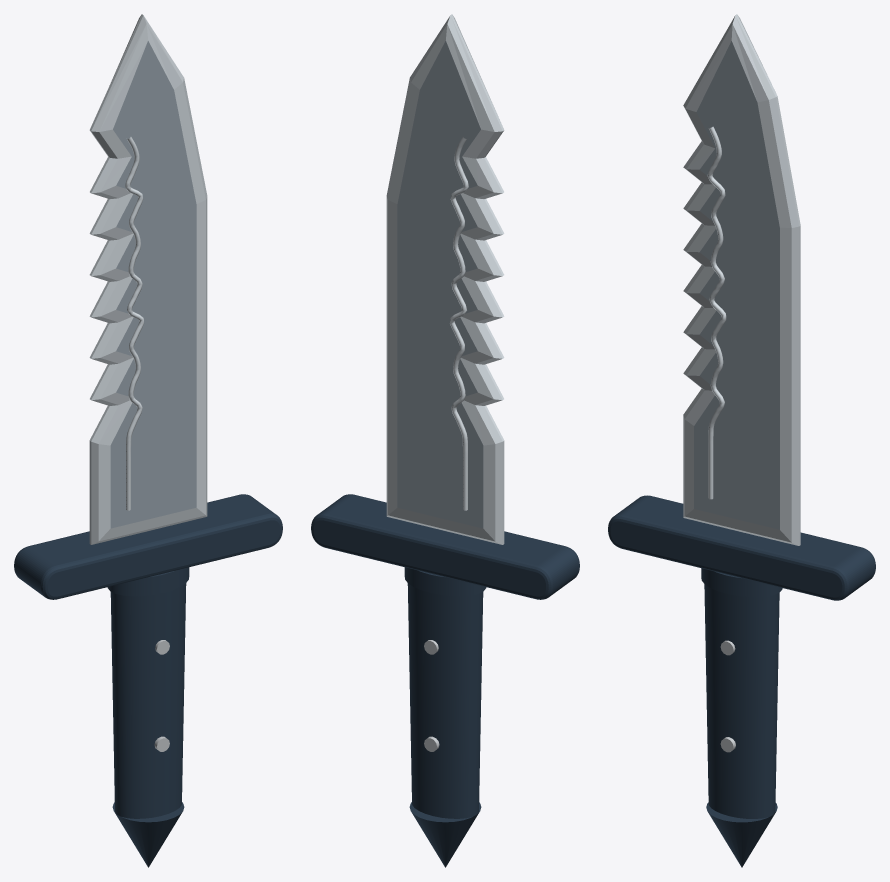
File: 11_Uncommon_Serrated_Fang.glb
3 renders of one model, left to right at view 1: azimuth 30°, elevation 25°; view 2: azimuth 150°, elevation 25°; view 3: azimuth 330°, elevation 25°, orthographic.
Parts seen in each view (by area): view 1: blade_1, handle_3, guard_0, blade_inlay_7, pommel_spike_5, ferrule_4; view 2: blade_1, handle_3, guard_0, blade_inlay_6, pommel_spike_5, ferrule_4; view 3: blade_1, handle_3, guard_0, blade_inlay_7, pommel_spike_5, ferrule_4.
Part boxes in pixels (<box>): blade_1: <box>89,14,207,544</box>; handle_3: <box>110,573,186,818</box>; guard_0: <box>14,494,282,599</box>; blade_inlay_7: <box>125,137,143,510</box>; pommel_spike_5: <box>112,802,184,867</box>; ferrule_4: <box>107,567,189,596</box>; blade_1: <box>386,14,504,544</box>; handle_3: <box>407,573,483,818</box>; guard_0: <box>311,494,579,599</box>; blade_inlay_6: <box>450,137,468,510</box>; pommel_spike_5: <box>409,802,481,867</box>; ferrule_4: <box>404,567,486,596</box>; blade_1: <box>683,14,800,545</box>; handle_3: <box>704,584,779,818</box>; guard_0: <box>608,495,875,600</box>; blade_inlay_7: <box>707,126,726,499</box>; pommel_spike_5: <box>706,802,777,867</box>; ferrule_4: <box>701,568,782,597</box>.
Size of the model in its own units: 0.166 by 0.562 by 0.0428.
Materials: 9 (9 with a texture image).
